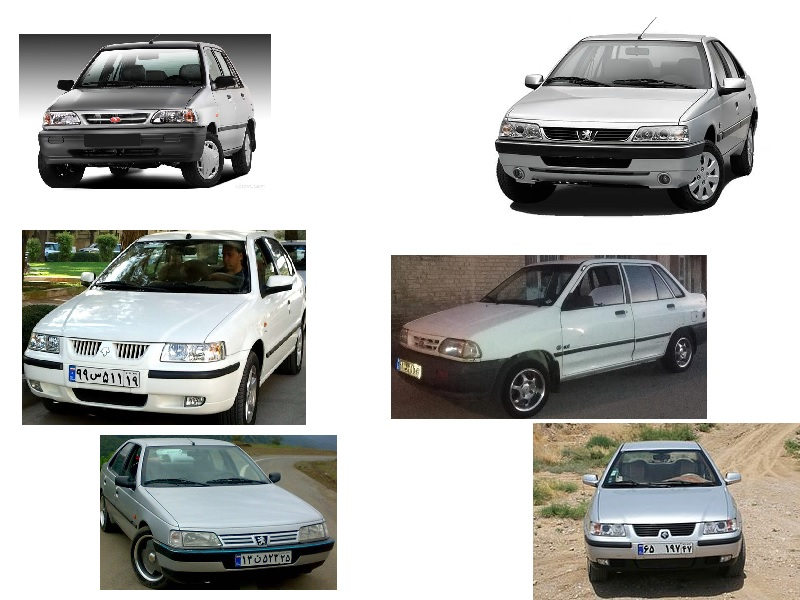peugeot: (484, 26, 762, 212), (98, 434, 339, 591)
pride: (389, 256, 703, 415), (26, 38, 261, 190)
samand: (21, 226, 303, 426), (571, 427, 751, 593)
